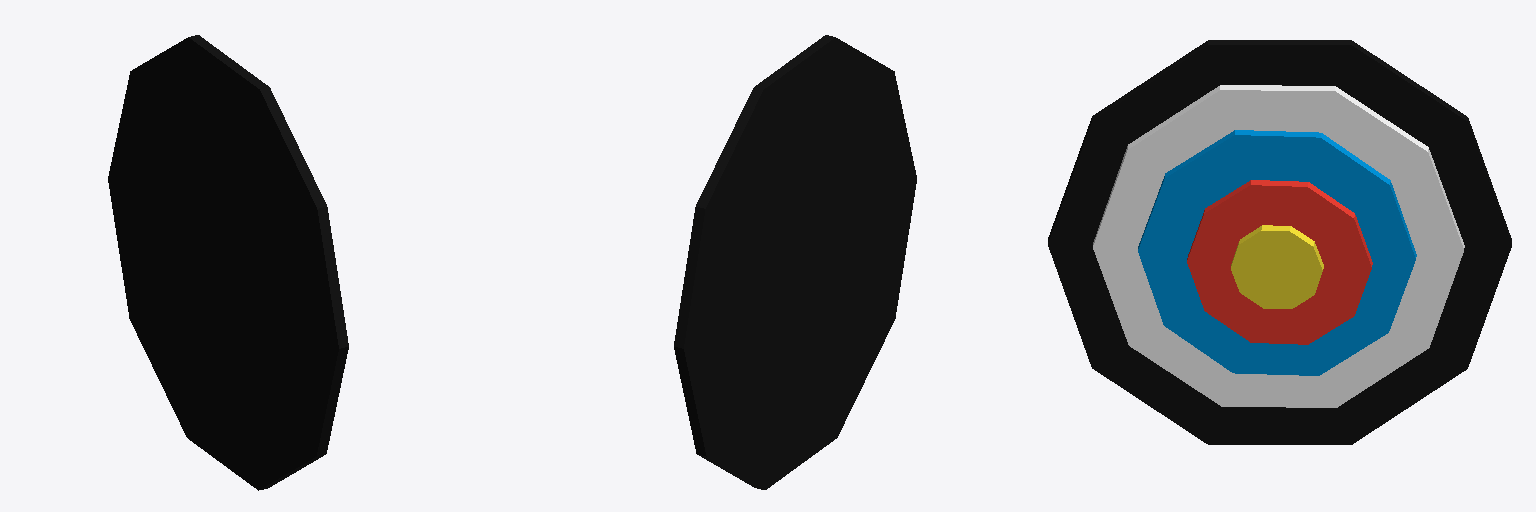
File: Target.obj
3 renders of one model, left to right at view 1: azimuth 30°, elevation 25°; view 2: azimuth 150°, elevation 25°; view 3: azimuth 270°, elevation 25°, orthographic.
Parts seen in each view (by area): view 1: model; view 2: model; view 3: model.
Part boxes in pixels (bbox=[...]): model: bbox=[108, 35, 348, 490]; model: bbox=[674, 35, 916, 489]; model: bbox=[1048, 40, 1511, 444].
Bounding box in the file's own units: 0.0333 × 0.1903 × 0.2.